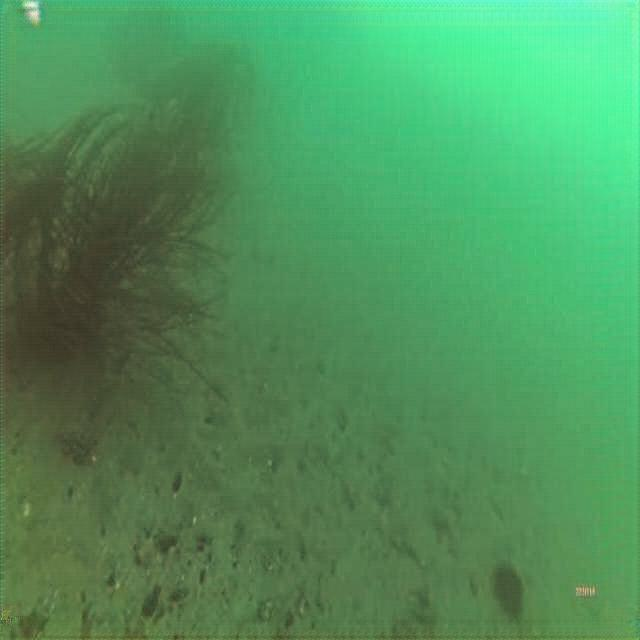echinus: (489, 558, 526, 622)
